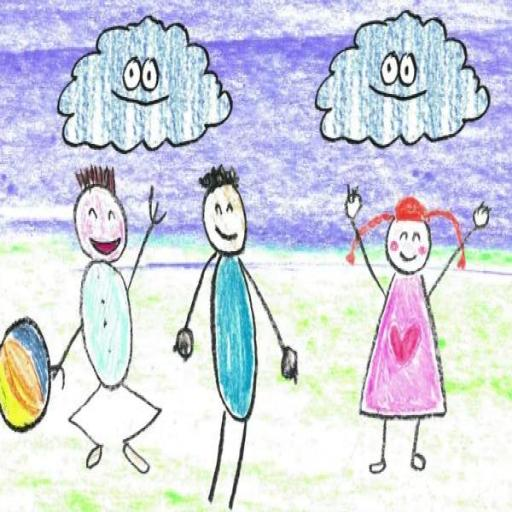person: (343, 172, 493, 486), (172, 166, 304, 510), (46, 159, 169, 476)
